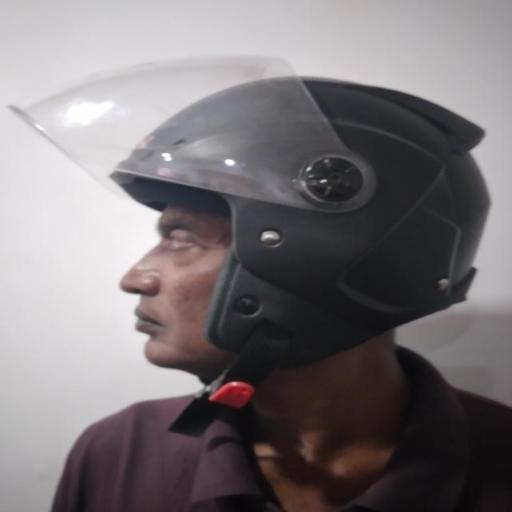with helmet: (0, 53, 493, 408)
